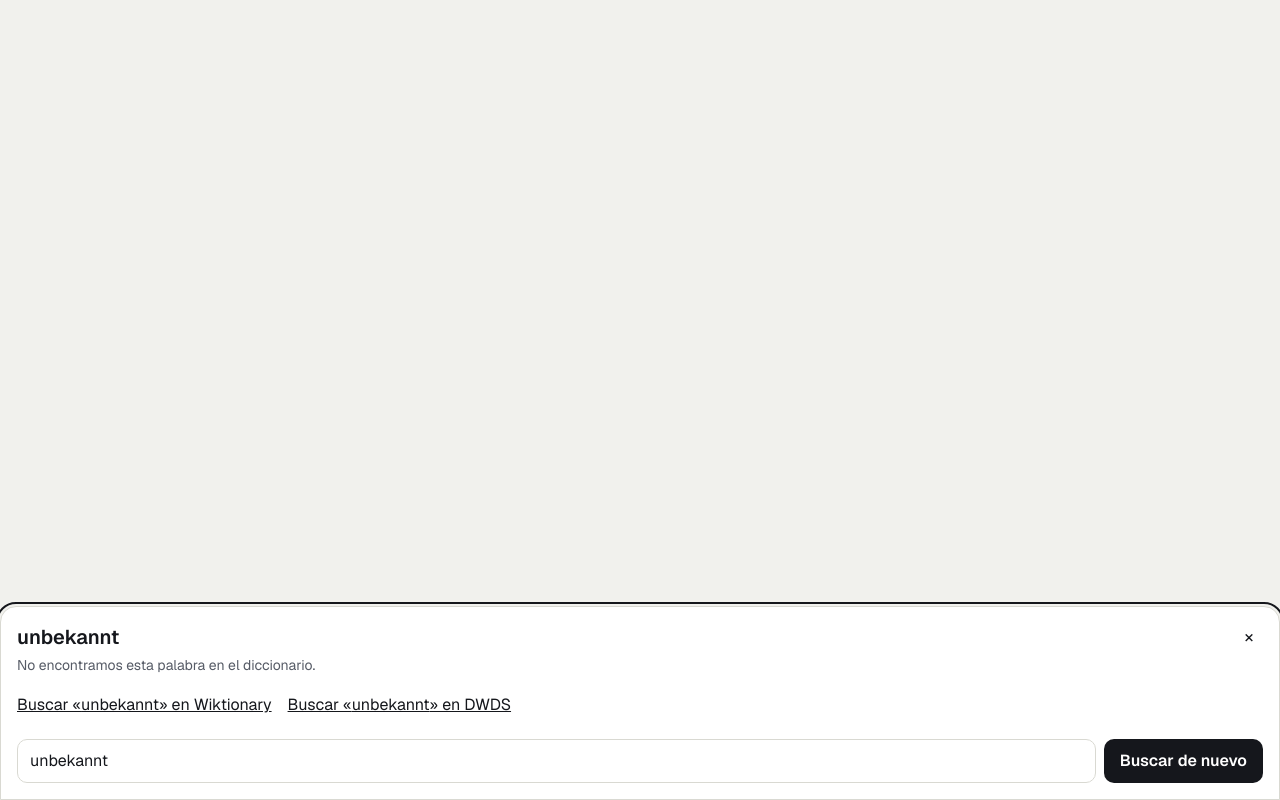
WordPanel: palabra no encontrada (RF-25) › avisa si tampoco existe y si falla la búsqueda
The width and height of the screenshot is (1280, 800).
Click the button "Buscar de nuevo". click: (1183, 761)
box: [1104,739,1263,783]
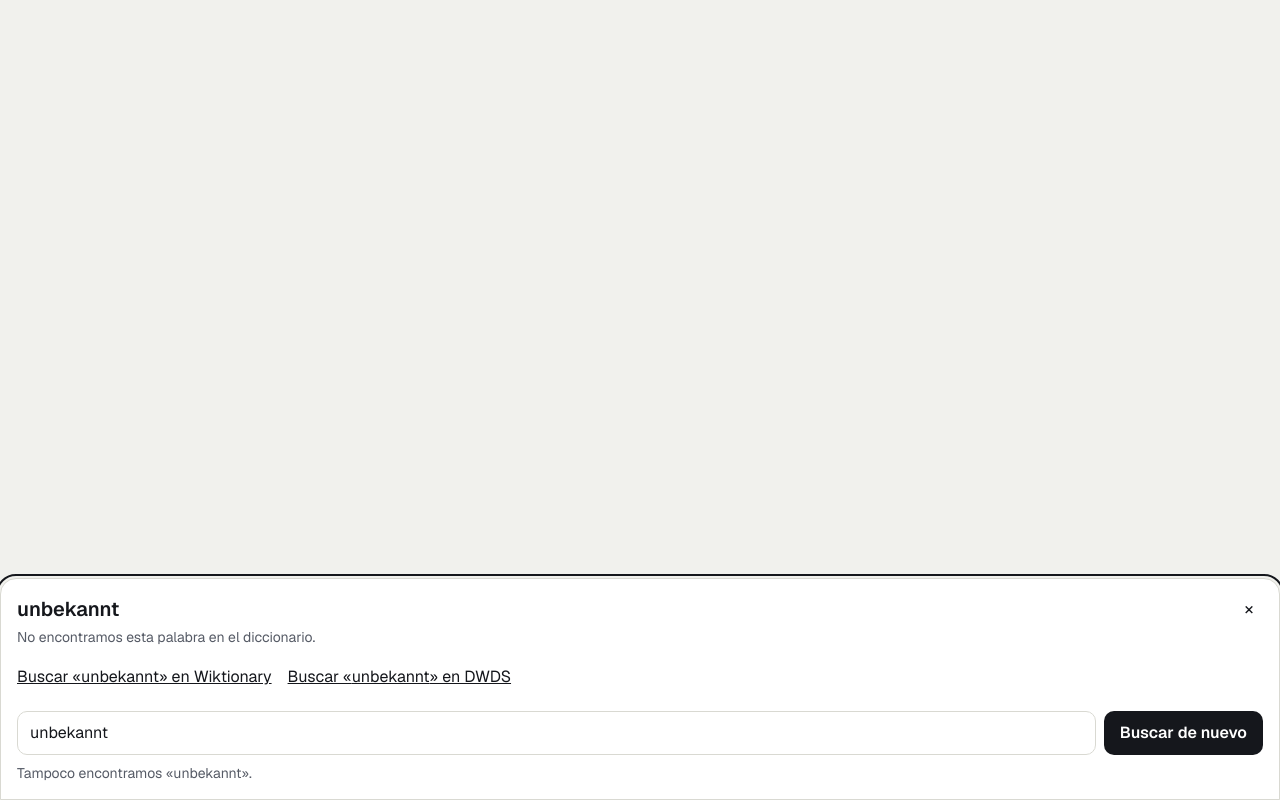
Check: the message shows "Tampoco encontramos «unbekannt»", box [17,764,252,782]
Click the button "Buscar de nuevo". click: (1183, 733)
box: [1104,711,1263,755]
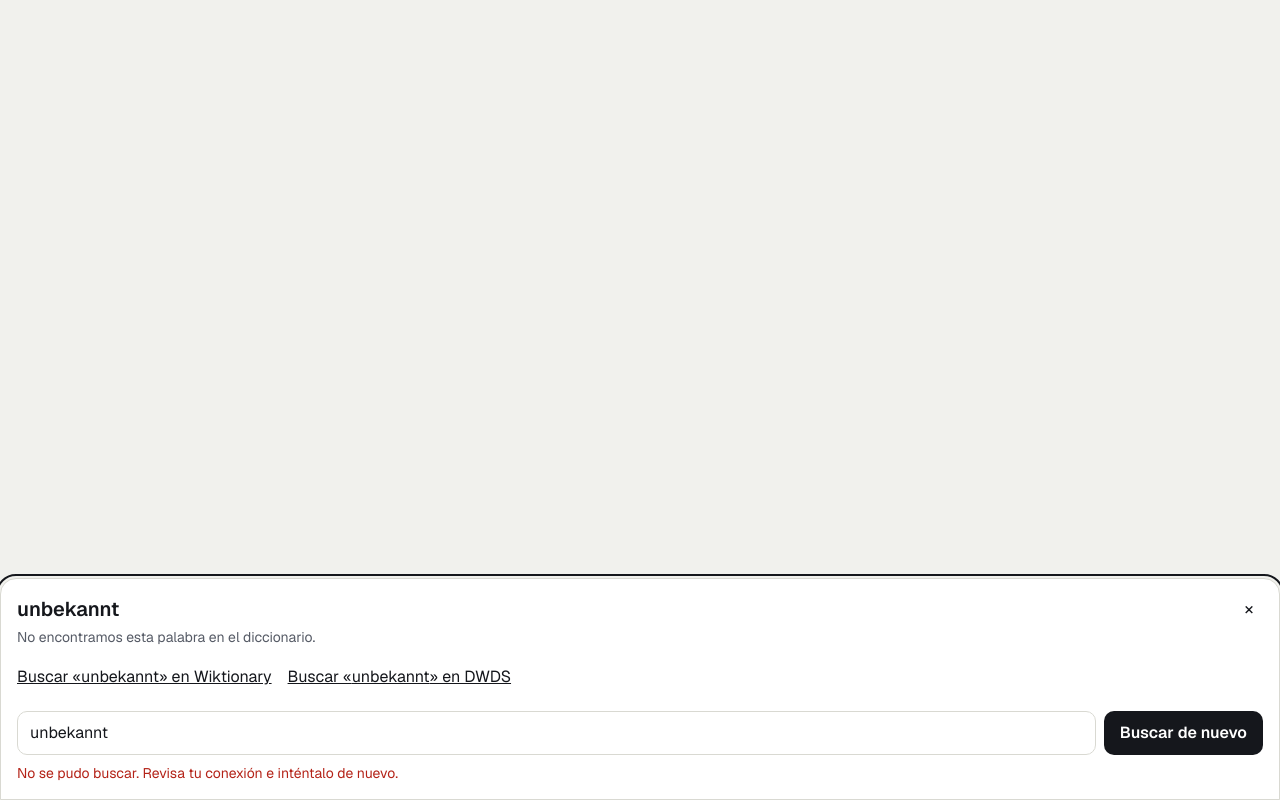
Check: the message shows "No se pudo buscar", box [17,764,398,782]
